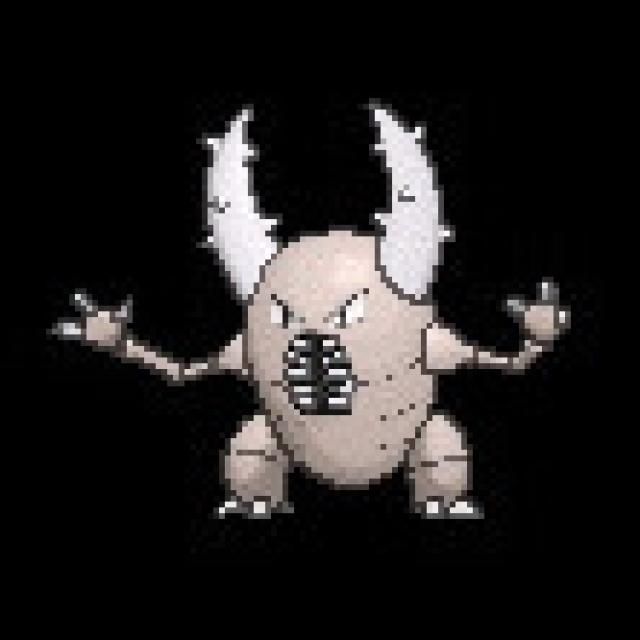Pinsir: (157, 150, 525, 524)
